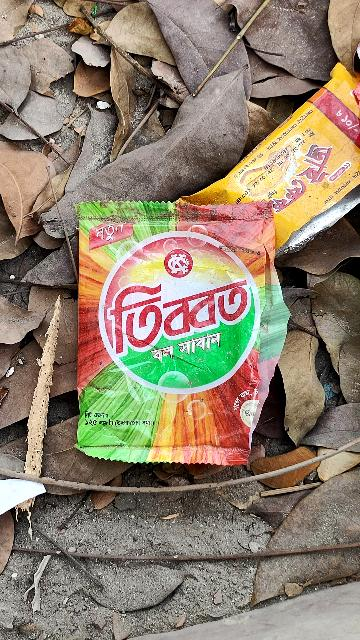packet: (72, 202, 264, 462), (239, 143, 348, 219)
